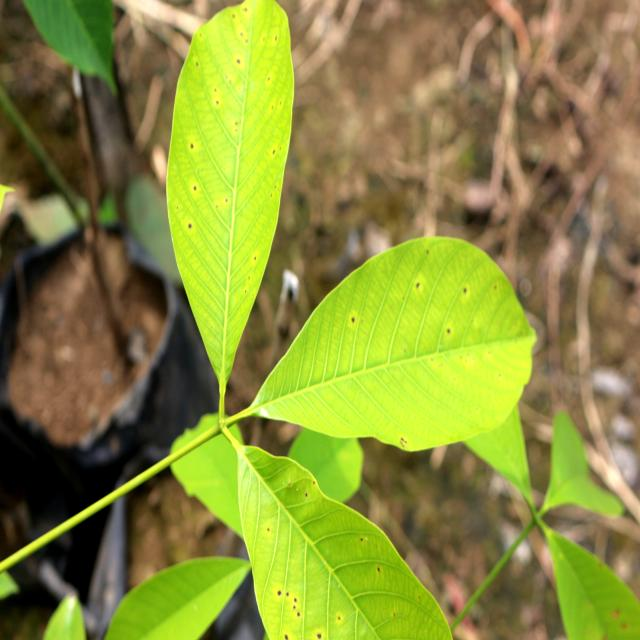Colletotrichum: (278, 591, 281, 595), (352, 317, 354, 322)
